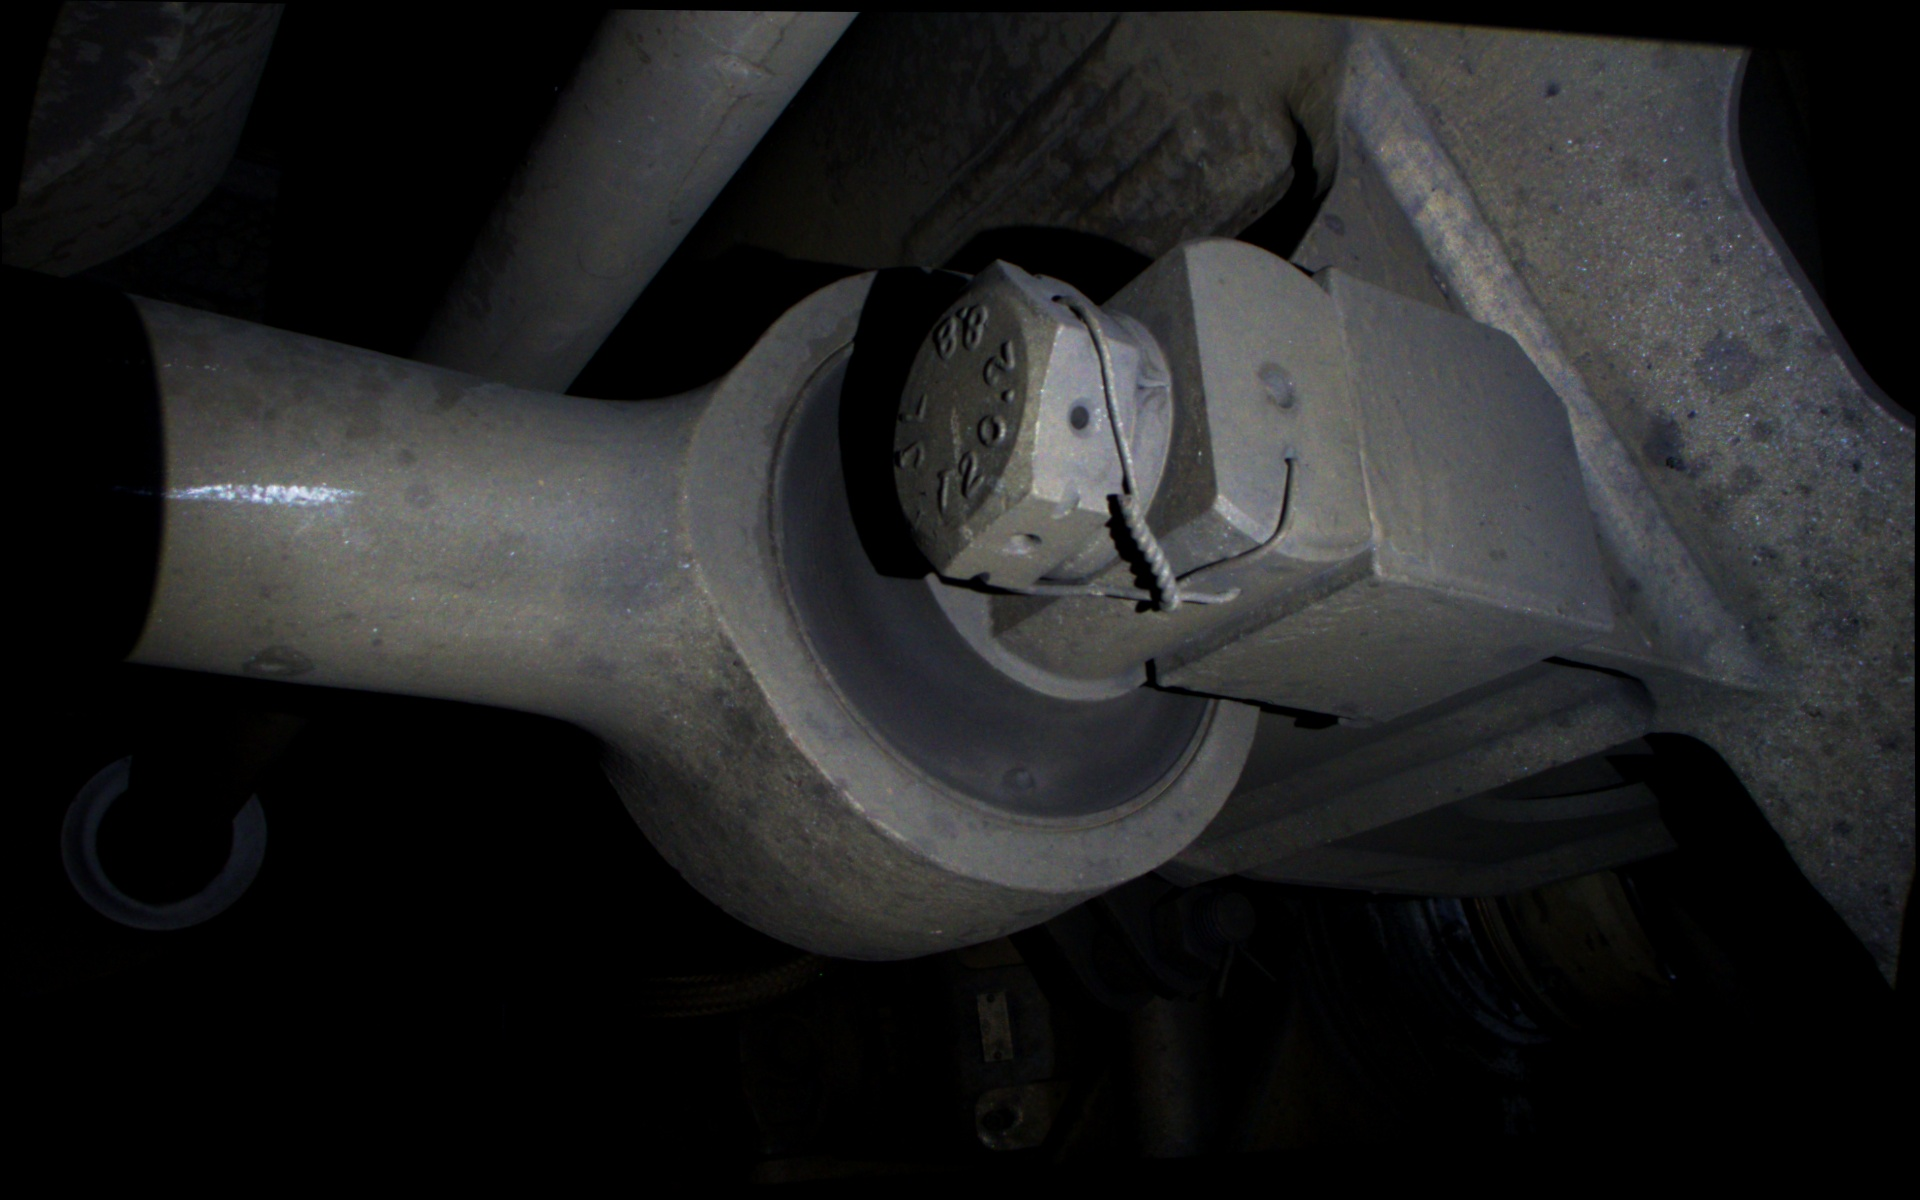bolthead1: (878, 253, 1156, 606)
